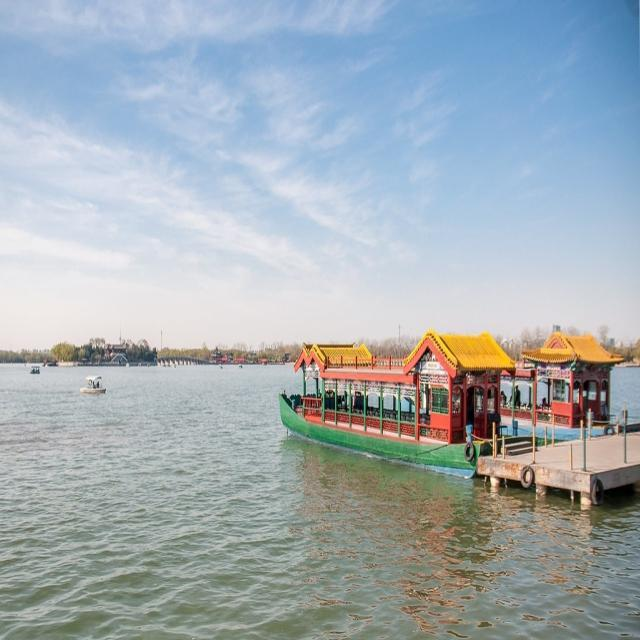boat: (274, 334, 522, 480), (82, 374, 108, 394), (28, 362, 46, 378)
